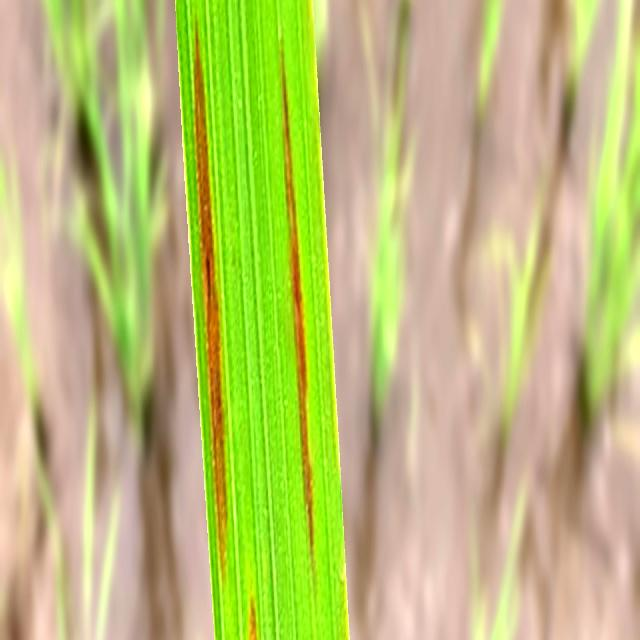NBS: (194, 24, 228, 573), (281, 56, 314, 563), (250, 600, 258, 640)
